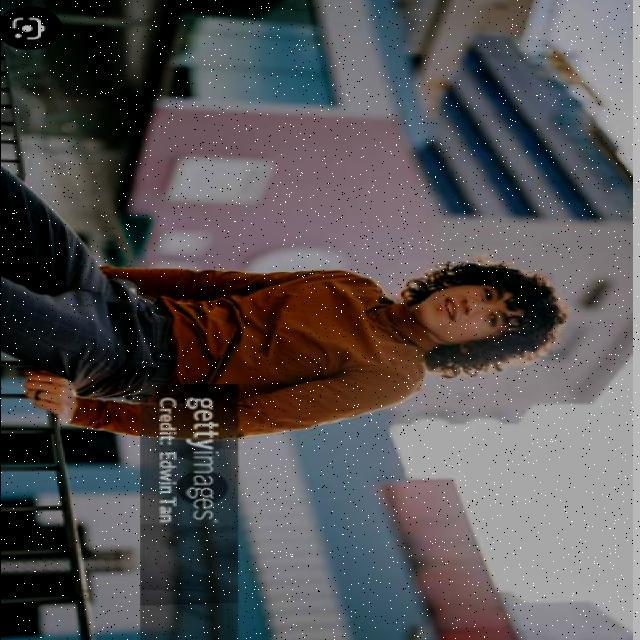face_no_mask: (418, 283, 517, 345)
